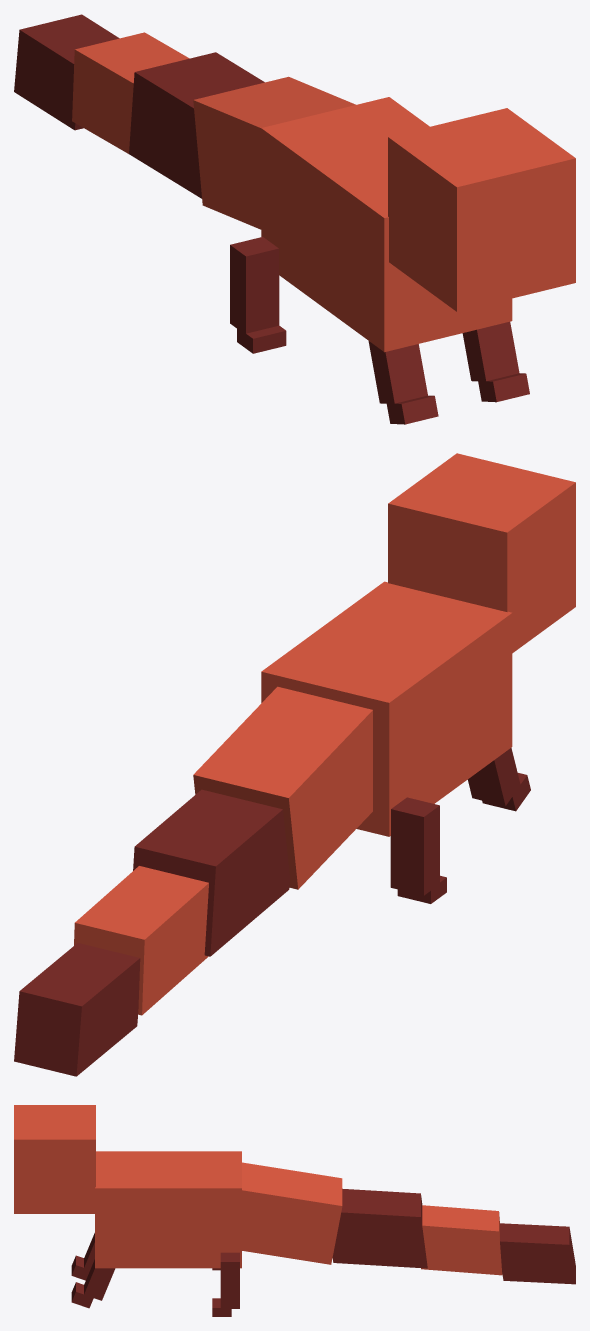
File: Flizzard.fbx
3 renders of one model, top to bottom at view 1: azimuth 30°, elevation 25°; view 2: azimuth 150°, elevation 25°; view 3: azimuth 270°, elevation 25°, orthographic. The views are drawn at different scales.
Parts seen in each view (by area): view 1: Cube.005, Cube, Cube.006, Cube.007, Cube.008, Cube.009, Cube.002, Cube.001, Cube.004; view 2: Cube, Cube.005, Cube.006, Cube.007, Cube.009, Cube.008, Cube.002, Cube.001; view 3: Cube, Cube.005, Cube.006, Cube.007, Cube.008, Cube.009, Cube.003, Cube.004, Cube.001.
Part boxes in pixels (x1=…): Cube.005: x1=388, y1=108, x2=575, y2=311; Cube: x1=261, y1=97, x2=512, y2=352; Cube.006: x1=193, y1=76, x2=355, y2=229; Cube.007: x1=129, y1=52, x2=264, y2=198; Cube.008: x1=72, y1=32, x2=189, y2=153; Cube.009: x1=14, y1=14, x2=119, y2=130; Cube.002: x1=230, y1=237, x2=286, y2=353; Cube.001: x1=368, y1=341, x2=438, y2=424; Cube.004: x1=462, y1=321, x2=529, y2=402; Cube: x1=261, y1=581, x2=512, y2=836; Cube.005: x1=388, y1=453, x2=575, y2=653; Cube.006: x1=193, y1=686, x2=372, y2=889; Cube.007: x1=133, y1=789, x2=289, y2=956; Cube.009: x1=14, y1=943, x2=140, y2=1076; Cube.008: x1=74, y1=866, x2=208, y2=1015; Cube.002: x1=390, y1=797, x2=446, y2=903; Cube.001: x1=467, y1=747, x2=530, y2=811; Cube: x1=95, y1=1151, x2=241, y2=1268; Cube.005: x1=14, y1=1105, x2=95, y2=1213; Cube.006: x1=242, y1=1162, x2=342, y2=1264; Cube.007: x1=332, y1=1188, x2=427, y2=1268; Cube.008: x1=421, y1=1205, x2=502, y2=1275; Cube.009: x1=500, y1=1223, x2=575, y2=1284; Cube.003: x1=212, y1=1252, x2=239, y2=1316; Cube.004: x1=71, y1=1259, x2=115, y2=1308; Cube.001: x1=71, y1=1233, x2=94, y2=1280.
Size of the model in its own units: 208 by 290 by 878.
